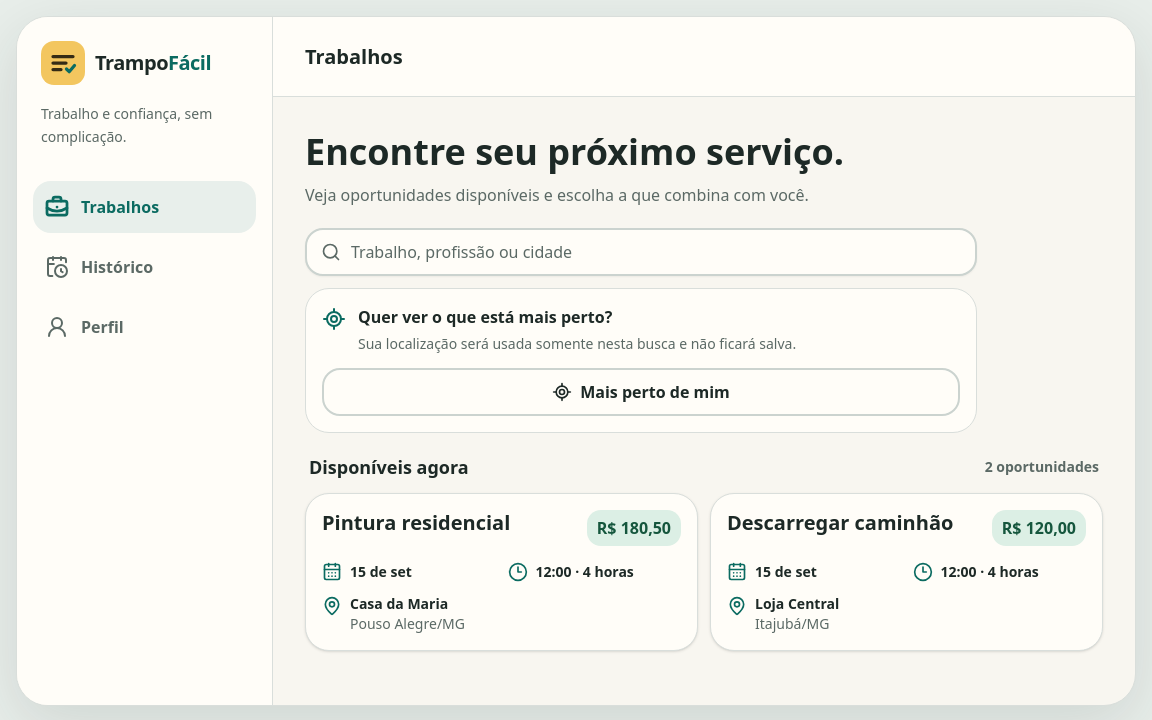
Scenario: worker job flow › lists only available jobs and searches locally by city
This screenshot has width=1152, height=720.
Expected: the link with aria-label "Ver trabalho: Pintura residencial" is shown, [305,493,698,651]
Expected: the text "R$ 180,50" is shown, [587,510,681,546]
Type "pouso" into the search field named "Buscar trabalhos" at [641, 252], box [305,228,977,276]
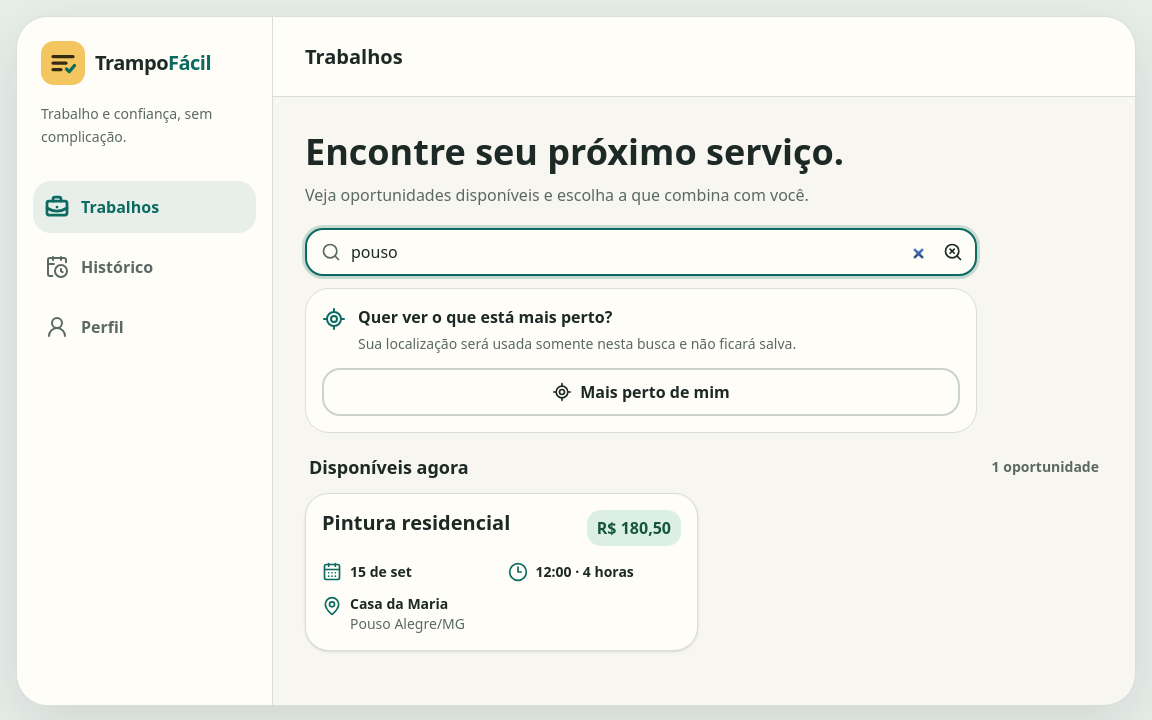
Expected: the heading "Pintura residencial" is shown, [322,510,510,535]
Now the link "Descarregar caminhão" is gone
